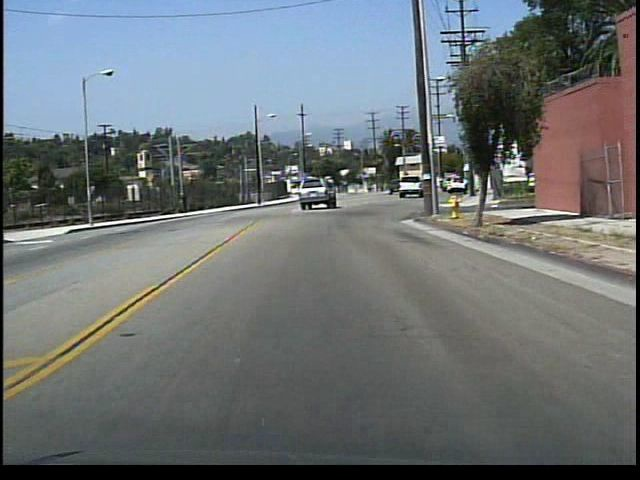person: (181, 190, 191, 215)
